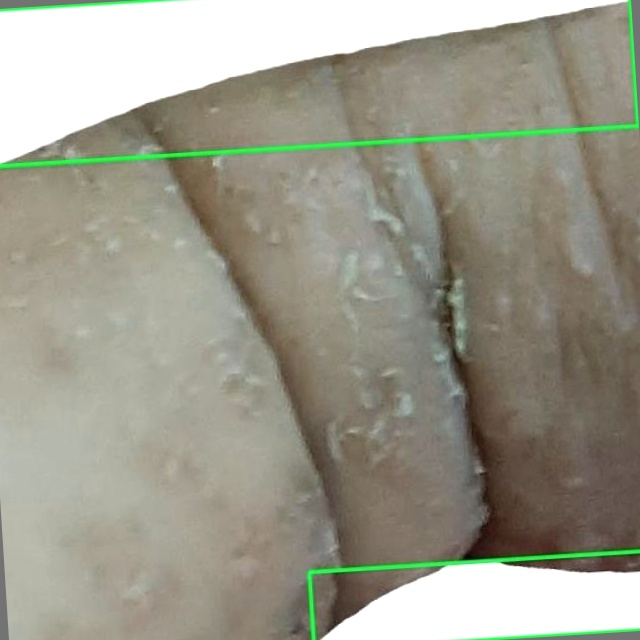Scabies: (0, 0, 638, 167), (309, 551, 639, 639)
